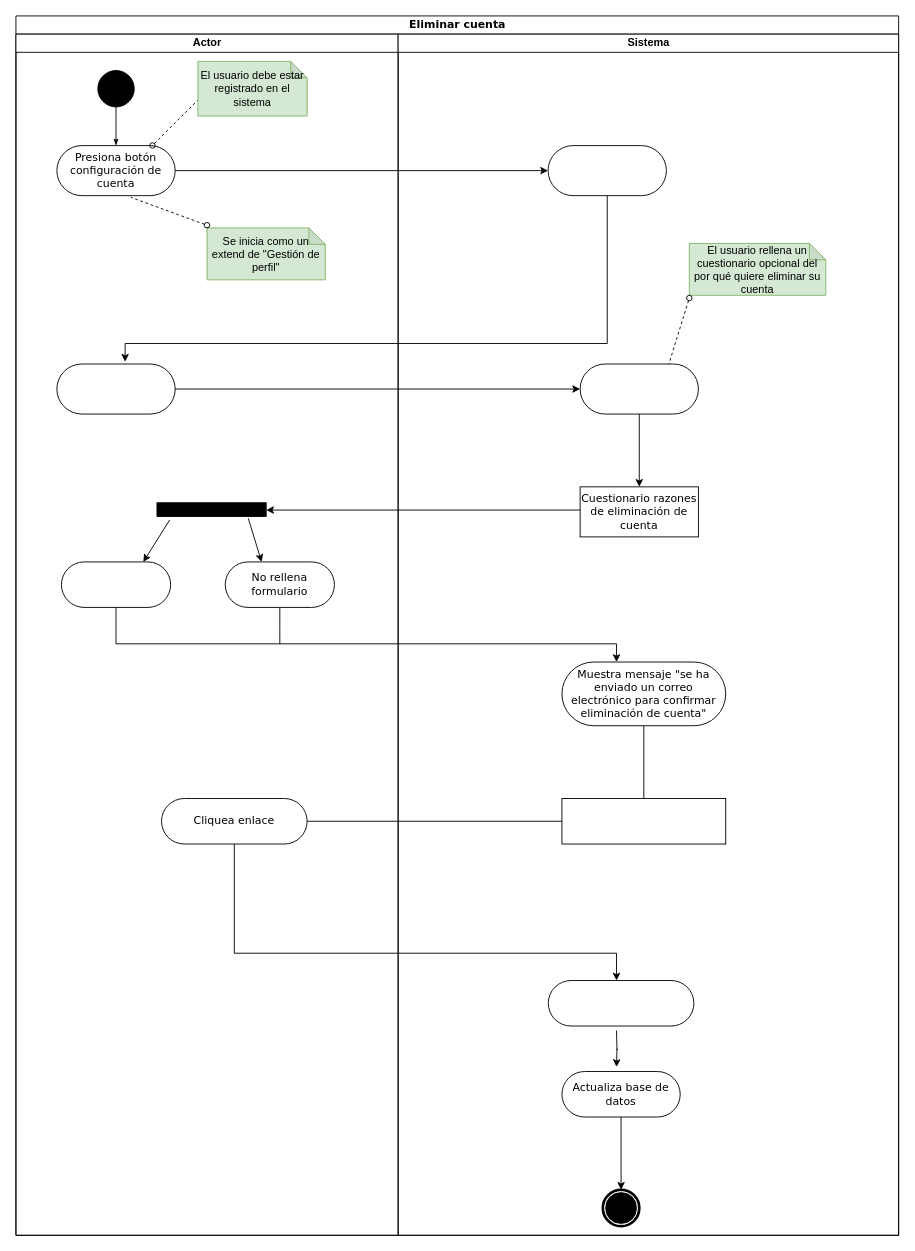
This 915x1251 diagram has some shape labels left out. The centre of each missing label's shape, as x and y in pixels:
Enlace de confirmación de eliminación de cuenta: pixel 643 821
Muestra interfaz "configuración de cuenta": pixel 606 170
Muestra interfaz "eliminación de cuenta": pixel 638 388
Muestra mensaje "cuenta eliminada con éxito": pixel 620 1003
Presiona botón "eliminar cuenta": pixel 115 388
Rellena formulario: pixel 116 584
